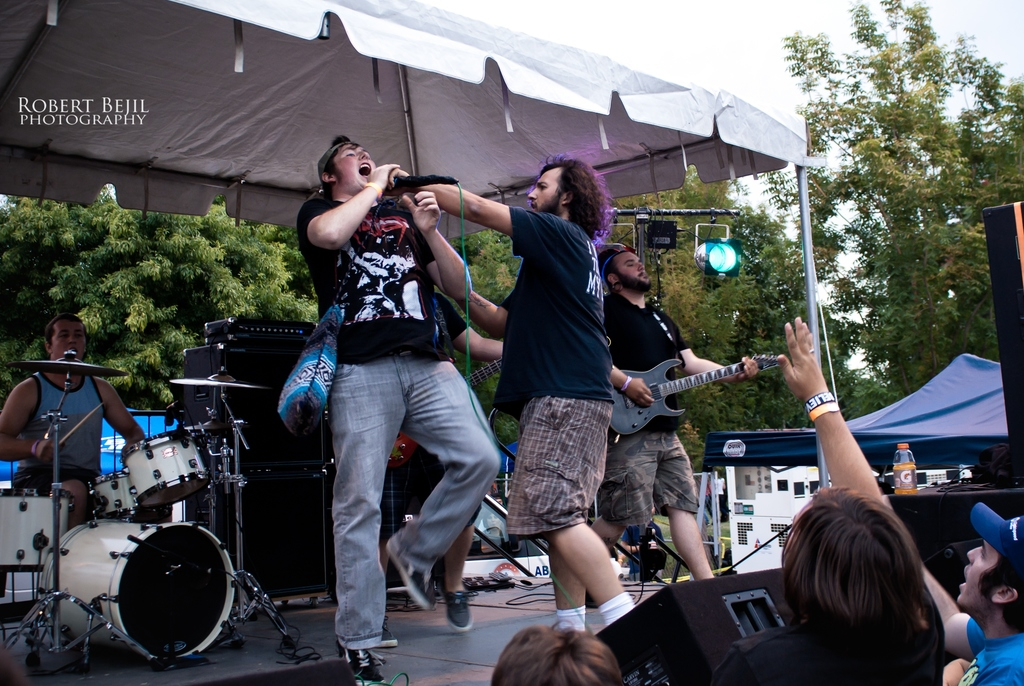Tree: (0, 0, 1023, 474)
